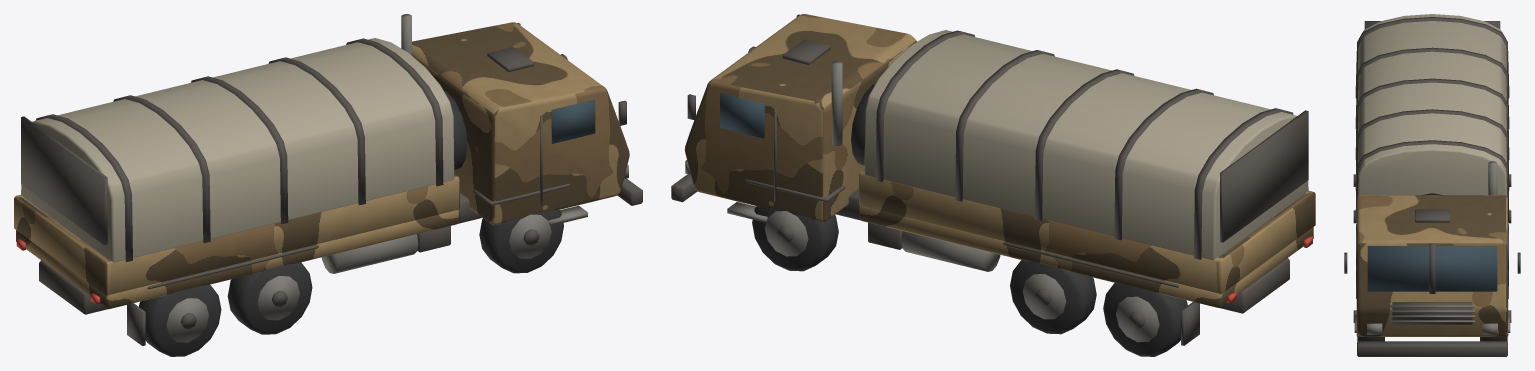
Rendered from fh_battle_e_convoy_truck.glb.
3 renders of one model, left to right at view 1: azimuth 30°, elevation 25°; view 2: azimuth 150°, elevation 25°; view 3: azimuth 270°, elevation 25°, orthographic. The views are drawn at different scales.
Visible parts, largest first — view 1: tent, convoy_truck, wheel_1r, wheel_2r, wheel_fr; view 2: tent, convoy_truck, wheel_1l, wheel_2l, wheel_fl; view 3: tent, convoy_truck, wheel_fl, wheel_fr.
Part boxes in pixels (x1,y1,x2,y2): tent: (21,38,454,262); convoy_truck: (14,14,642,345); wheel_1r: (227,262,312,334); wheel_2r: (139,284,221,356); wheel_fr: (479,209,563,273); tent: (864,30,1308,260); convoy_truck: (671,14,1315,345); wheel_1l: (1010,260,1096,334); wheel_2l: (1103,283,1187,356); wheel_fl: (752,205,838,271); tent: (1355,14,1509,221); convoy_truck: (1344,130,1520,356); wheel_fl: (1480,299,1511,341); wheel_fr: (1353,299,1384,341).
Bounding box in the file's own units: 1.01 × 0.373 × 0.35.
7 materials, 1 textured.
